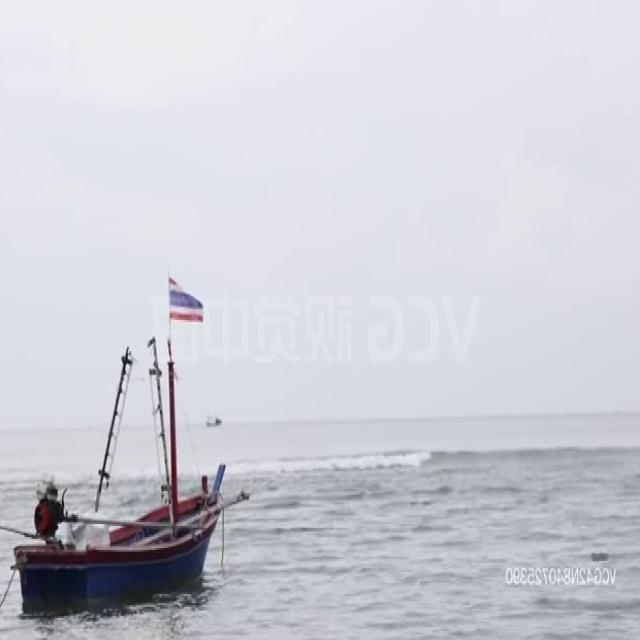fishing boat: (15, 317, 238, 616)
